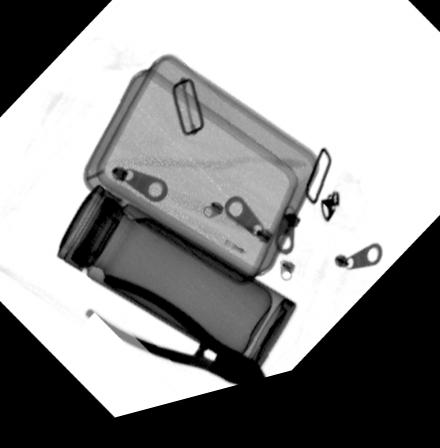Pliers: (83, 278, 267, 398)
